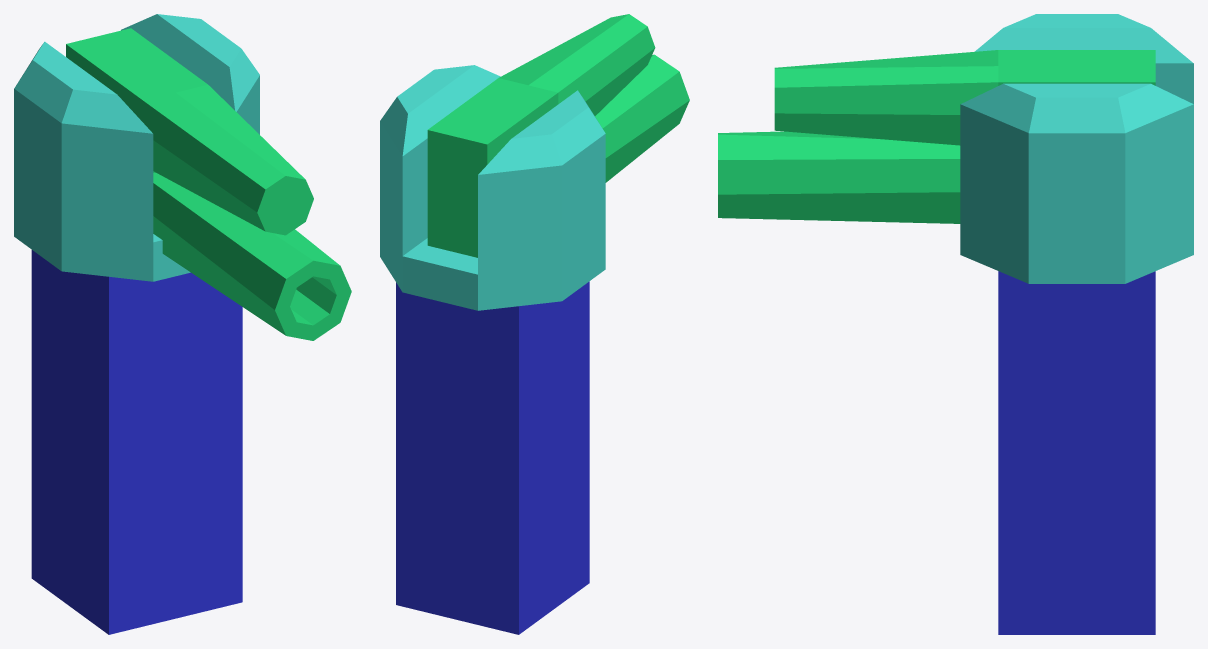
Rendered from torretaB.fbx.
3 renders of one model, left to right at view 1: azimuth 30°, elevation 25°; view 2: azimuth 150°, elevation 25°; view 3: azimuth 270°, elevation 25°, orthographic. The views are drawn at different scales.
Visible parts, largest first — view 1: Cube.001, Cube.002, Cylinder; view 2: Cube.001, Cylinder, Cube.002; view 3: Cube.001, Cylinder, Cube.002.
Boxes of the visible parts, x1,y1,x2,y2 form: Cube.001: (31, 250, 242, 634); Cube.002: (66, 28, 351, 340); Cylinder: (14, 14, 259, 281); Cube.001: (396, 281, 589, 634); Cylinder: (380, 65, 605, 310); Cube.002: (427, 14, 689, 257); Cube.001: (998, 271, 1155, 634); Cylinder: (960, 14, 1193, 283); Cube.002: (718, 50, 1155, 223).
Size of the model in its own units: 297 by 766 by 605.
